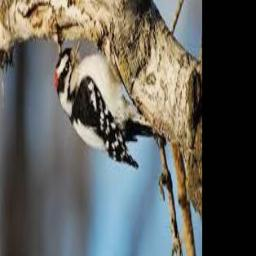Woodpecker: (55, 36, 160, 169)
